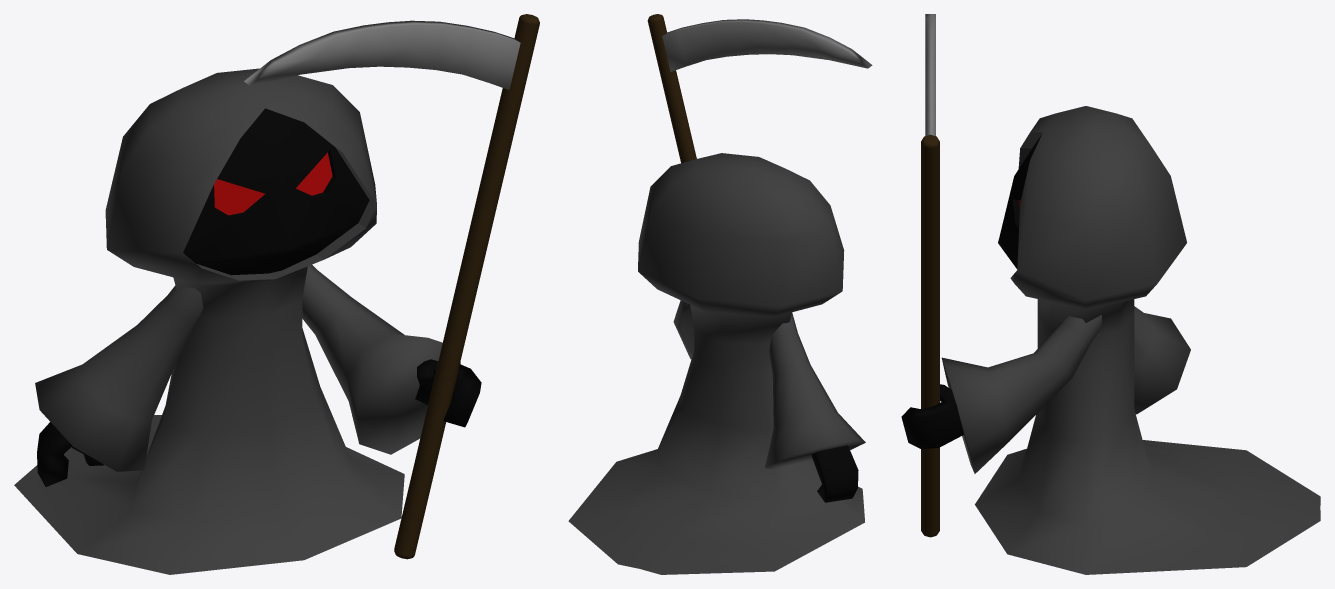
File: grim_reaper_jonathan.fbx
The picture shows the model from 3 angles, left to right: view 1: azimuth 30°, elevation 25°; view 2: azimuth 150°, elevation 25°; view 3: azimuth 270°, elevation 25°; orthographic projection. The views are drawn at different scales.
Parts seen in each view (by area): view 1: polySurface12; view 2: polySurface12; view 3: polySurface12.
Boxes of the visible parts, x1,y1,x2,y2 form: polySurface12: (14, 14, 539, 574); polySurface12: (568, 14, 872, 574); polySurface12: (901, 14, 1320, 574).
Size of the model in its own units: 168 by 226 by 178.
